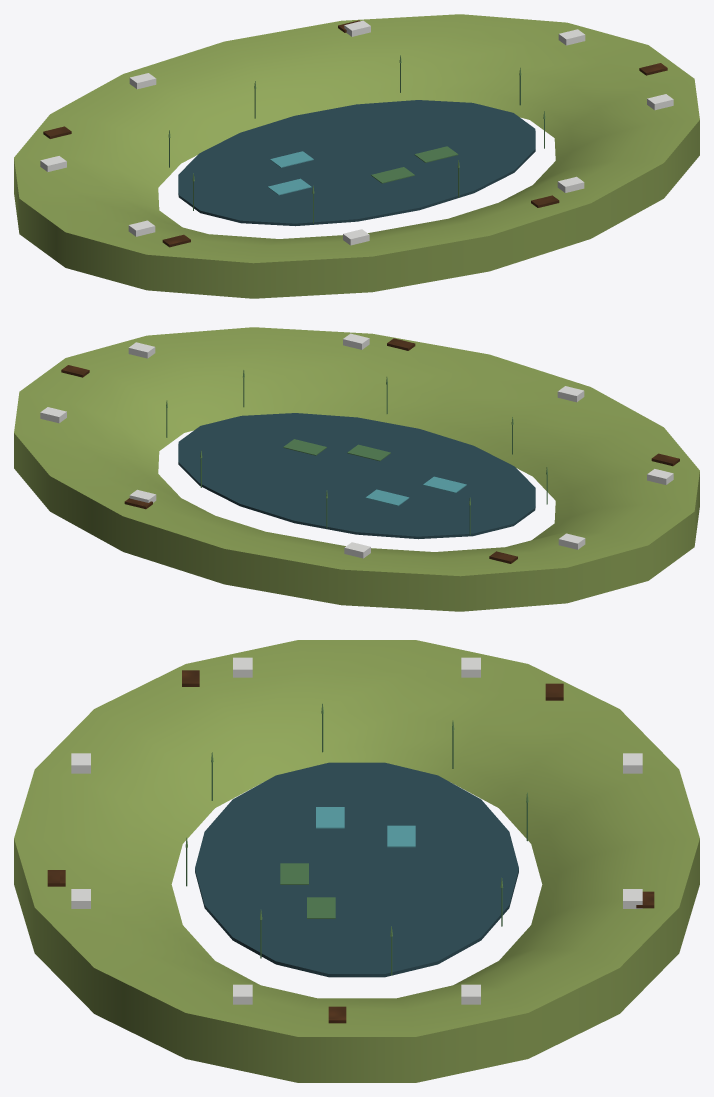
Rendered from Pond.fbx.
3 renders of one model, top to bottom at view 1: azimuth 30°, elevation 25°; view 2: azimuth 150°, elevation 25°; view 3: azimuth 270°, elevation 25°, orthographic. The views are drawn at different scales.
Visible parts, largest first — view 1: LOD0; view 2: LOD0; view 3: LOD0.
Boxes of the visible parts, box(x1,y1,x2,y2) form: LOD0: box(14, 14, 699, 298); LOD0: box(14, 327, 699, 611); LOD0: box(14, 640, 699, 1082).
Size of what is drawn, in the model's own units: 1054 by 86 by 770.
